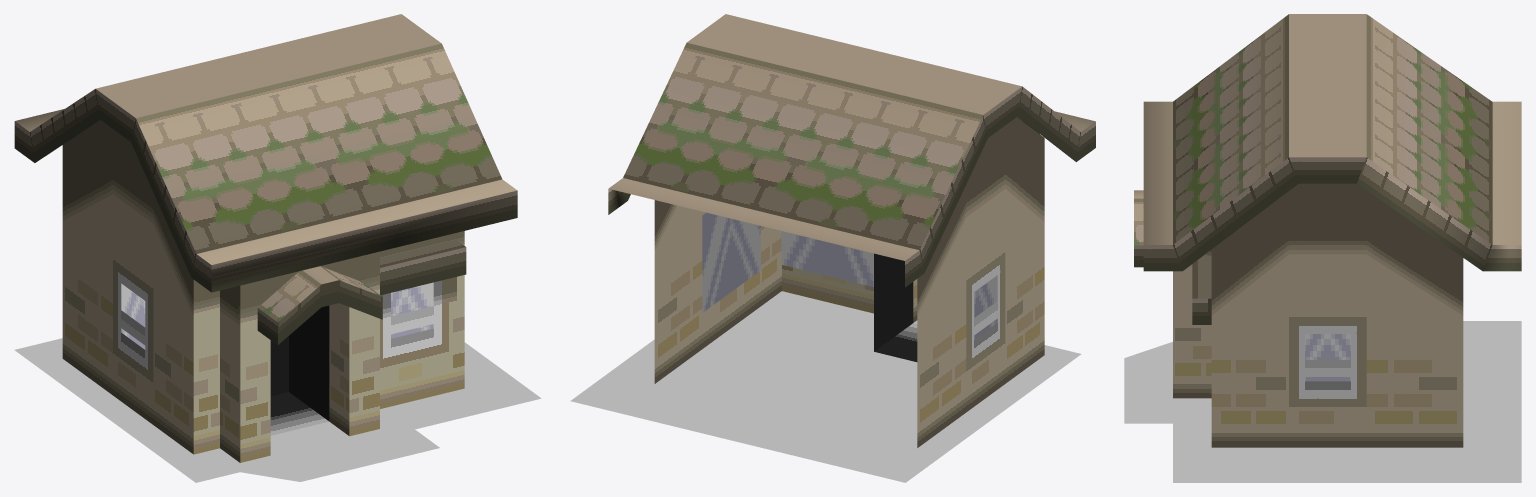
File: c7_house_01.dae
3 renders of one model, left to right at view 1: azimuth 30°, elevation 25°; view 2: azimuth 150°, elevation 25°; view 3: azimuth 270°, elevation 25°, orthographic. The views are drawn at different scales.
Parts seen in each view (by area): view 1: c7_house_01; view 2: c7_house_01; view 3: c7_house_01.
Part boxes in pixels (left/top/right/bottom): c7_house_01: left=14, top=14, right=541, bottom=482; c7_house_01: left=570, top=14, right=1095, bottom=482; c7_house_01: left=1124, top=14, right=1521, bottom=482.
Size of the model in its own units: 79.13 by 70 by 82.
